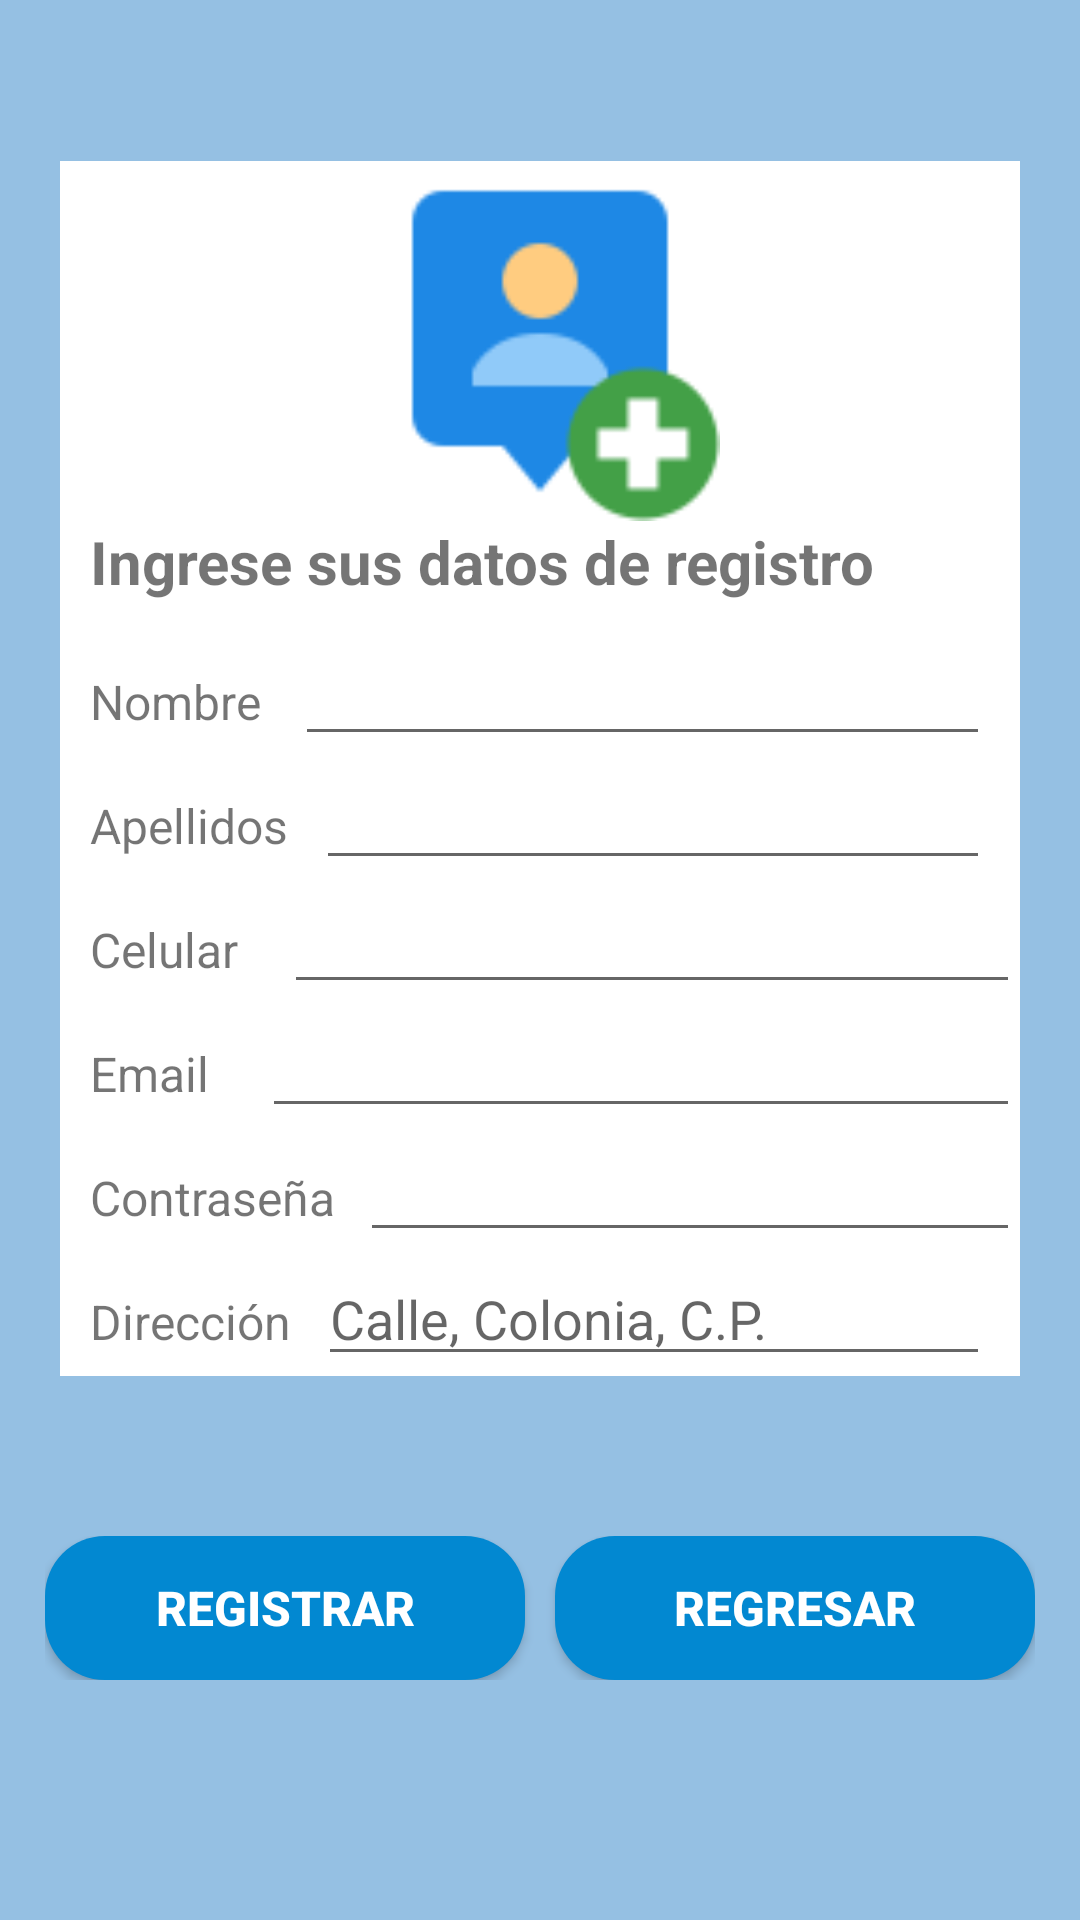

Locate icon controls on the screen. Image size 1080px×1920px, boxes as bbox=[x1, y1, x2, y2].
newuser: bbox=[411, 190, 720, 521]
